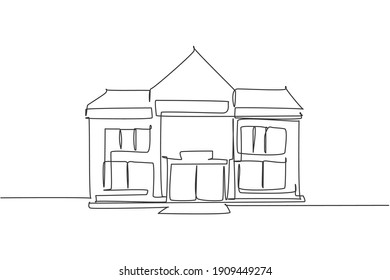building: (78, 45, 307, 216)
